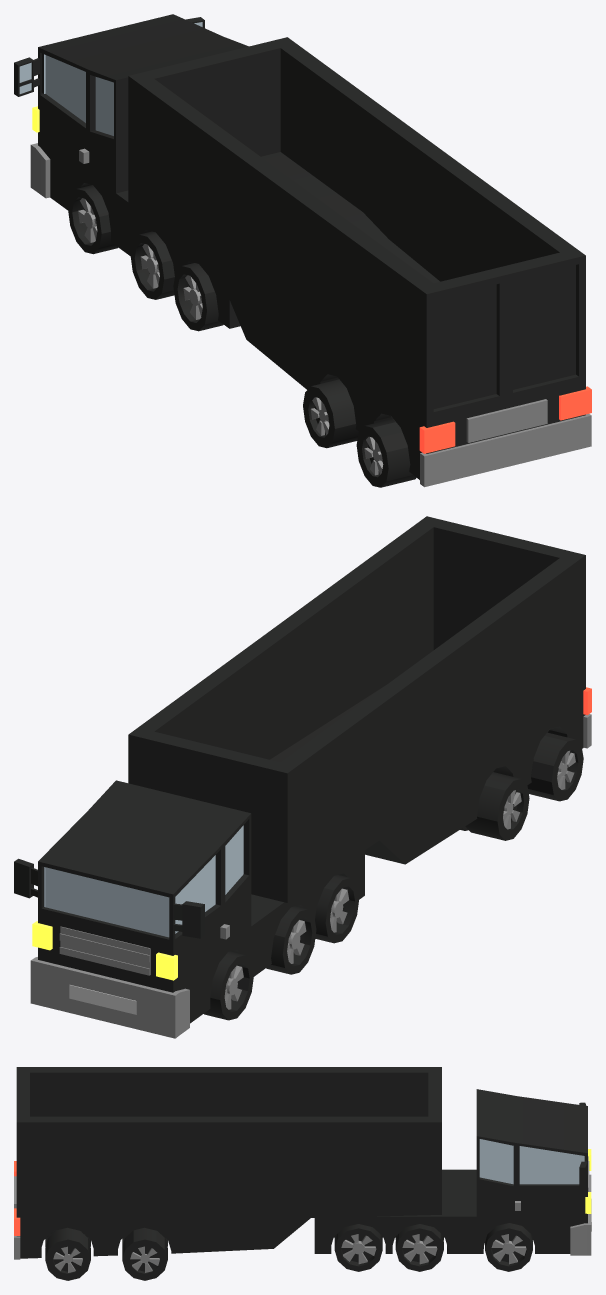
The model's file is Camion.fbx.
3 views of the same model, one above another, from view 1: azimuth 30°, elevation 25°; view 2: azimuth 150°, elevation 25°; view 3: azimuth 270°, elevation 25° (orthographic). The views are drawn at different scales.
Visible parts, largest first — view 1: Camion; view 2: Camion; view 3: Camion.
Boxes of the visible parts, x1,y1,x2,y2 form: Camion: (14, 14, 591, 487); Camion: (14, 516, 591, 1038); Camion: (14, 1067, 591, 1280).
Size of the model in its own units: 616 by 645 by 2217.
